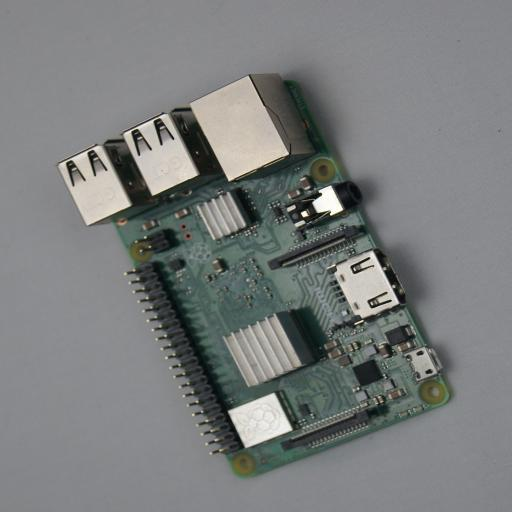Raspberry Pi 3 B-: (58, 71, 454, 477)
